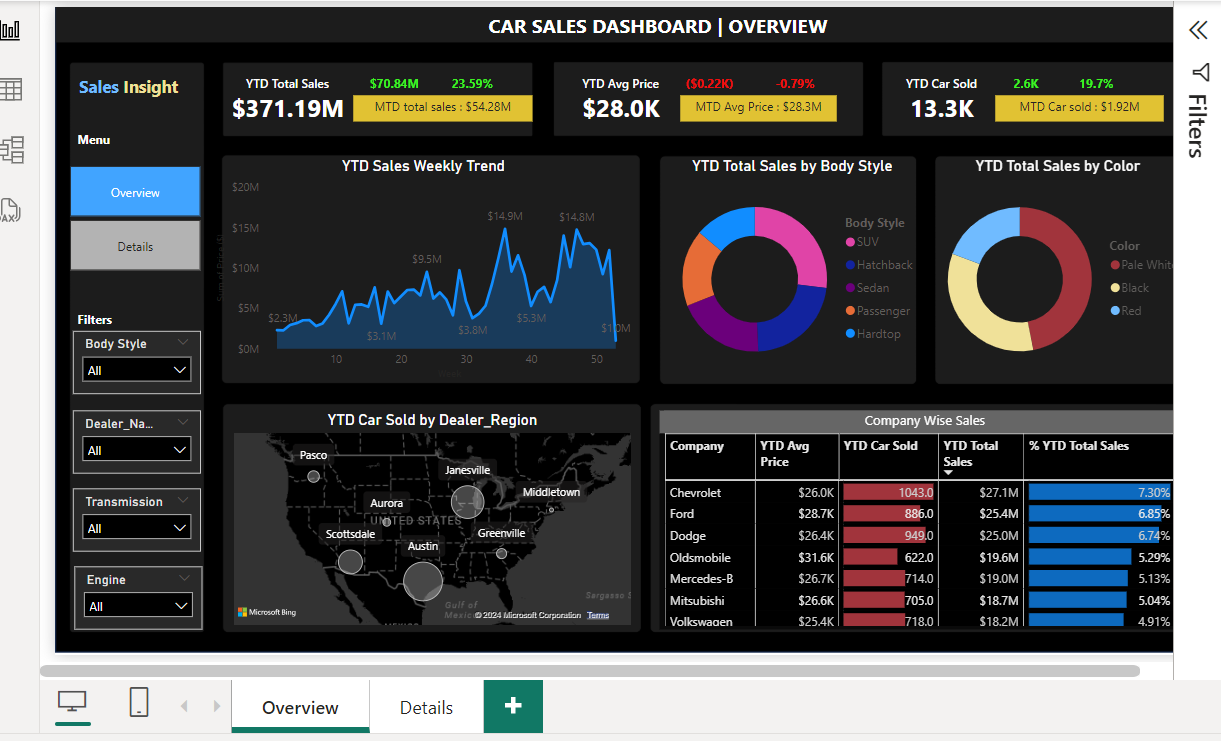

The page's visual inventory and layout, read from the dashboard file:
{"tool":"powerbi","page":{"name":"Overview","canvas":[1280,720],"ordinal":0},"visuals":[{"type":"card","title":"YTD Total Sales","fields":{"Values":["car_data.YTD Total Sales"]},"box":[173.3,75,170,56.7],"z":0},{"type":"card","fields":{"Values":["car_data.Sales Difference"]},"box":[321.7,70,110,33.3],"z":1000},{"type":"card","fields":{"Values":["car_data.YoY Sales Growth"]},"box":[408.3,70,110,33.3],"z":2000},{"type":"card","fields":{"Values":["car_data.MTD KPI total sales"]},"box":[331.7,98.3,198.3,28.3],"z":3000},{"type":"card","title":"YTD Avg Price","fields":{"Values":["car_data.YTD Avg Price"]},"box":[543.3,75,170,56.7],"z":4000},{"type":"card","fields":{"Values":["car_data.Avg sales diff"]},"box":[671.7,70,110,33.3],"z":5000},{"type":"card","fields":{"Values":["car_data.Avg YoY Growth"]},"box":[766.7,70,110,33.3],"z":6000},{"type":"card","fields":{"Values":["car_data.MTD KPI Avg Price"]},"box":[695,98.3,173.3,28.3],"z":7000},{"type":"card","title":"YTD Car Sold","fields":{"Values":["car_data.`YTD Car Sold"]},"box":[900,75,170,56.7],"z":8000},{"type":"card","fields":{"Values":["car_data.Car Sold diff"]},"box":[1023.3,70,110,33.3],"z":9000},{"type":"card","fields":{"Values":["car_data.YoY Car sold Growth"]},"box":[1101.7,70,110,33.3],"z":10000},{"type":"card","fields":{"Values":["car_data.MTD KPI car Sold"]},"box":[1045,98.3,186.7,28.3],"z":11000},{"type":"areaChart","title":"YTD Sales Weekly Trend","fields":{"Category":["Calender Table.Week"],"Y":["Sum(car_data.Price ($))"]},"box":[173.3,166.7,471.7,251.7],"z":12000},{"type":"donutChart","fields":{"Category":["car_data.Body Style"],"Y":["car_data.YTD Total Sales"]},"box":[671.7,166.7,295,251.7],"z":13000},{"type":"donutChart","fields":{"Y":["car_data.YTD Total Sales"],"Category":["car_data.Color"]},"box":[966.7,166.7,295,251.7],"z":14000},{"type":"map","fields":{"Category":["car_data.Dealer_Region"],"Size":["car_data.YTD Car Sold"]},"box":[193.3,448.3,451.7,243.3],"z":15000},{"type":"tableEx","title":"Company Wise  Sales","fields":{"Values":["car_data.Company","car_data.YTD Avg Price","car_data.YTD Car Sold","car_data.YTD Total Sales1","car_data.YTD Total Sales"]},"box":[671.7,448.3,590,243.3],"z":16000},{"type":"textbox","box":[331.7,0,676.7,41.7],"z":17000},{"type":"slicer","fields":{"Values":["car_data.Body Style"]},"box":[20,360,141.7,70],"z":18000},{"type":"slicer","fields":{"Values":["car_data.Dealer_Name"]},"box":[20,448.3,141.7,70],"z":19000},{"type":"slicer","fields":{"Values":["car_data.Transmission"]},"box":[20,535,141.7,70],"z":20000},{"type":"textbox","box":[20,331.7,71.7,28.3],"z":21000},{"type":"slicer","fields":{"Values":["car_data.Engine"]},"box":[21.7,621.7,141.7,70],"z":22000},{"type":"pageNavigator","box":[16.7,176.7,145,116.7],"z":23000},{"type":"textbox","box":[20,131.7,141.7,35],"z":23001},{"type":"textbox","box":[21.7,70,141.7,43.3],"z":23002}]}

Visuals, with their boxes on the page's 1280x720 design canvas (x1, y1, x2, y2). These are canvas units, not pixel positions in the 1221x741 screenshot, which may show the page scaled, cropped or inside an application window:
"YTD Total Sales" card: bbox=[173, 75, 343, 132]
card - car_data.Sales Difference: bbox=[322, 70, 432, 103]
card - car_data.YoY Sales Growth: bbox=[408, 70, 518, 103]
card - car_data.MTD KPI total sales: bbox=[332, 98, 530, 127]
"YTD Avg Price" card: bbox=[543, 75, 713, 132]
card - car_data.Avg sales diff: bbox=[672, 70, 782, 103]
card - car_data.Avg YoY Growth: bbox=[767, 70, 877, 103]
card - car_data.MTD KPI Avg Price: bbox=[695, 98, 868, 127]
"YTD Car Sold" card: bbox=[900, 75, 1070, 132]
card - car_data.Car Sold diff: bbox=[1023, 70, 1133, 103]
card - car_data.YoY Car sold Growth: bbox=[1102, 70, 1212, 103]
card - car_data.MTD KPI car Sold: bbox=[1045, 98, 1232, 127]
"YTD Sales Weekly Trend" areaChart: bbox=[173, 167, 645, 418]
donutChart - car_data.Body Style x car_data.YTD Total Sales: bbox=[672, 167, 967, 418]
donutChart - car_data.YTD Total Sales x car_data.Color: bbox=[967, 167, 1262, 418]
map - car_data.Dealer_Region x car_data.YTD Car Sold: bbox=[193, 448, 645, 692]
"Company Wise  Sales" tableEx: bbox=[672, 448, 1262, 692]
textbox: bbox=[332, 0, 1008, 42]
slicer - car_data.Body Style: bbox=[20, 360, 162, 430]
slicer - car_data.Dealer_Name: bbox=[20, 448, 162, 518]
slicer - car_data.Transmission: bbox=[20, 535, 162, 605]
textbox: bbox=[20, 332, 92, 360]
slicer - car_data.Engine: bbox=[22, 622, 163, 692]
pageNavigator: bbox=[17, 177, 162, 293]
textbox: bbox=[20, 132, 162, 167]
textbox: bbox=[22, 70, 163, 113]
